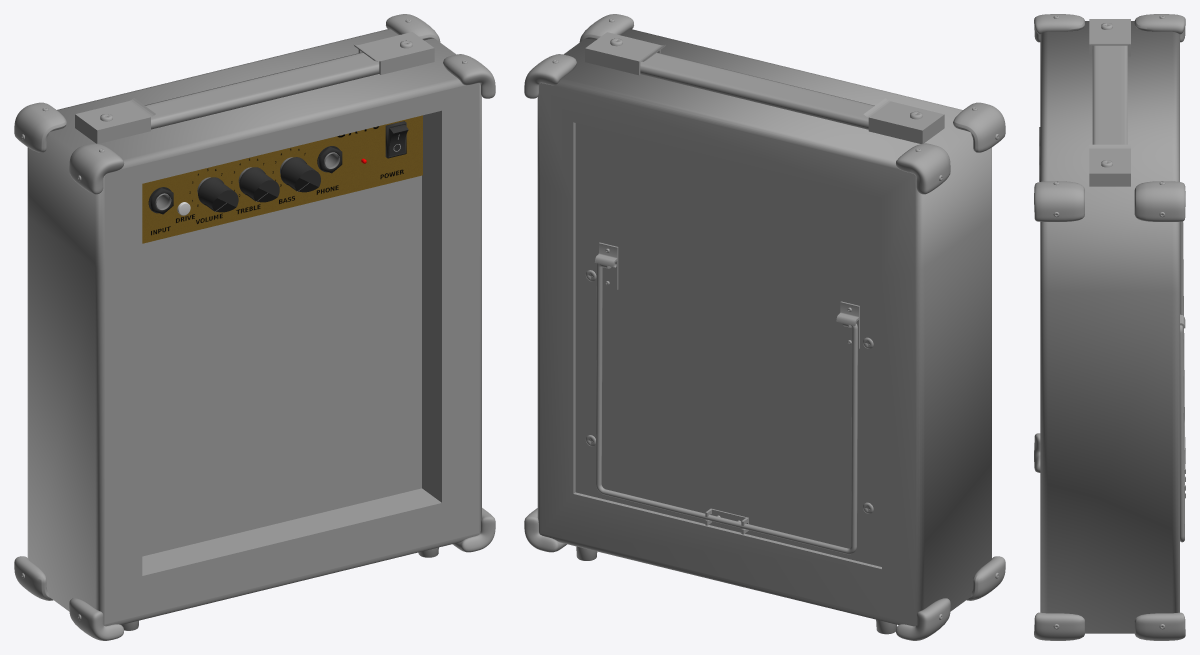
Rendered from Amplifier.FBX.
3 views of the same model, side by side, from view 1: azimuth 30°, elevation 25°; view 2: azimuth 150°, elevation 25°; view 3: azimuth 270°, elevation 25° (orthographic). The views are drawn at different scales.
Visible parts, largest first — view 1: Plane_002; view 2: Plane_002; view 3: Plane_002.
Part boxes in pixels (x1=…): Plane_002: x1=14, y1=14, x2=495, y2=640; Plane_002: x1=524, y1=14, x2=1005, y2=640; Plane_002: x1=1034, y1=14, x2=1185, y2=640.
Bounding box in the file's own units: 2.18 × 2.52 × 0.7478.
2 materials, 1 textured.
